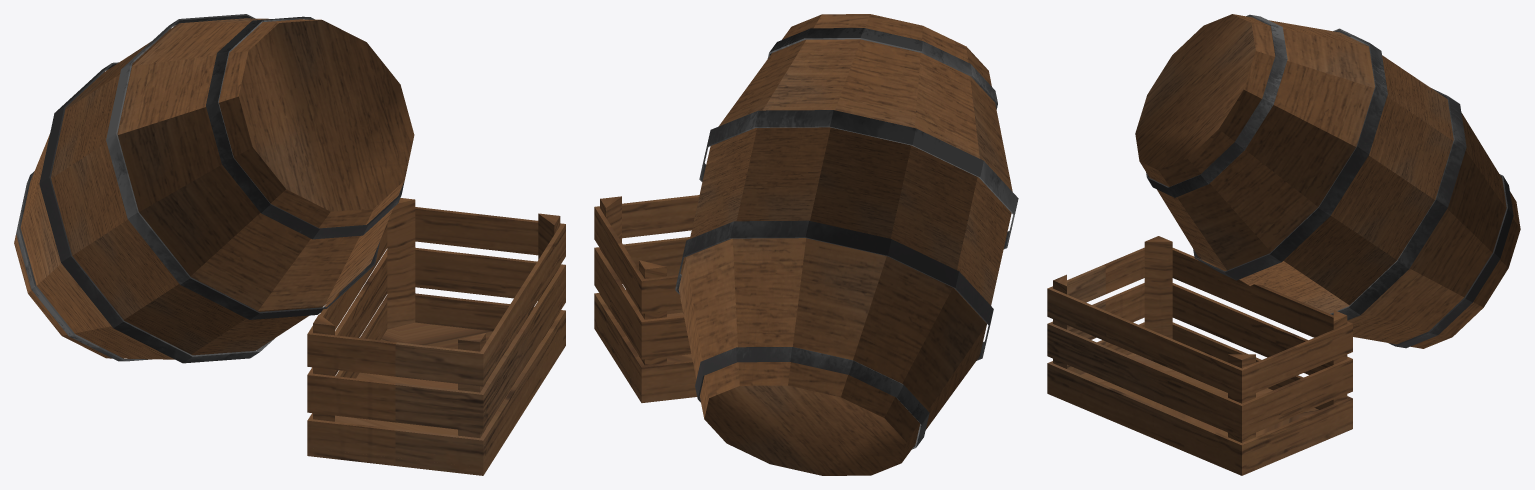
3 views of the same model, side by side, from view 1: azimuth 30°, elevation 25°; view 2: azimuth 150°, elevation 25°; view 3: azimuth 270°, elevation 25° (orthographic). The views are drawn at different scales.
Visible parts, largest first — view 1: box; view 2: box; view 3: box.
Part boxes in pixels (<box>): box: <box>14,14,565,475</box>; box: <box>594,14,1018,475</box>; box: <box>1047,14,1520,475</box>.
Size of the model in its own units: 53.56 by 44.04 by 56.5.
2 materials, 2 textured.
